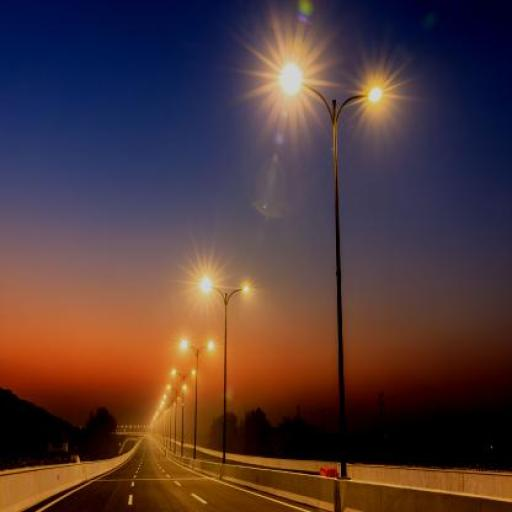street light: (281, 64, 384, 498), (201, 278, 251, 465), (181, 338, 213, 462), (171, 368, 196, 457), (168, 384, 188, 455), (164, 394, 181, 455)
